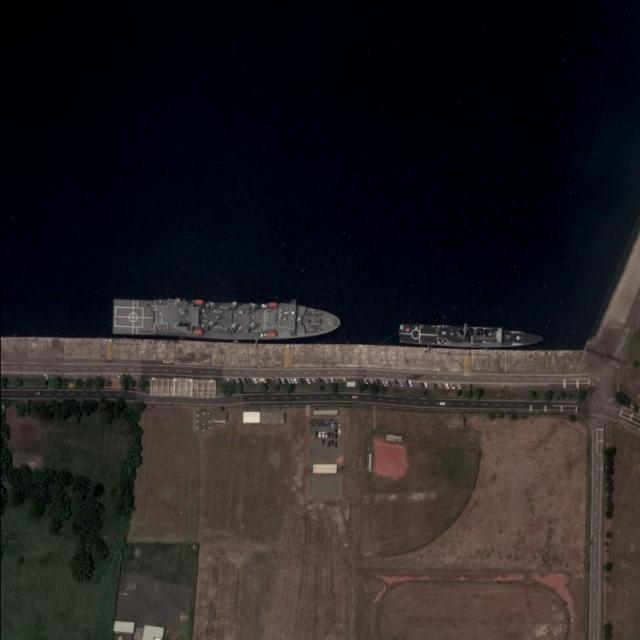Commander: (110, 295, 340, 339)
Other Warship: (399, 323, 544, 349)
